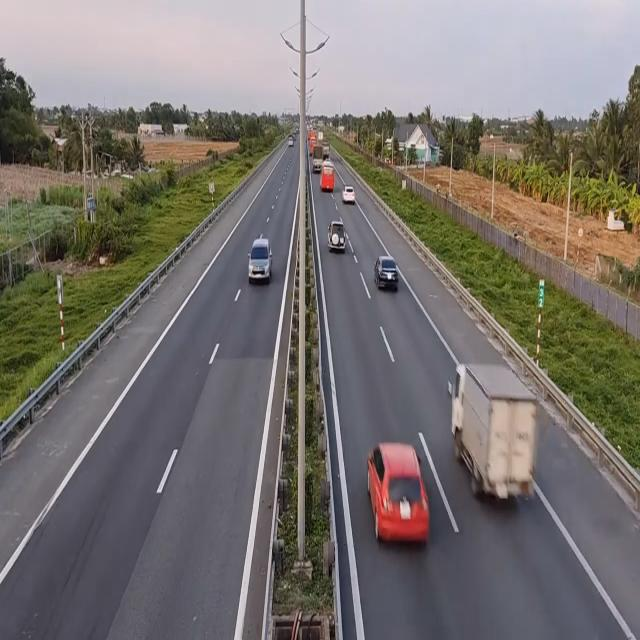bus: (320, 163, 336, 190)
car: (369, 441, 434, 548), (247, 237, 271, 287), (374, 256, 400, 293), (328, 220, 347, 254), (342, 183, 357, 205)
truck: (449, 360, 540, 507)
